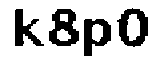0: (119, 2, 151, 49)
8: (48, 6, 79, 48)
k: (10, 5, 46, 49)
p: (81, 18, 110, 60)
